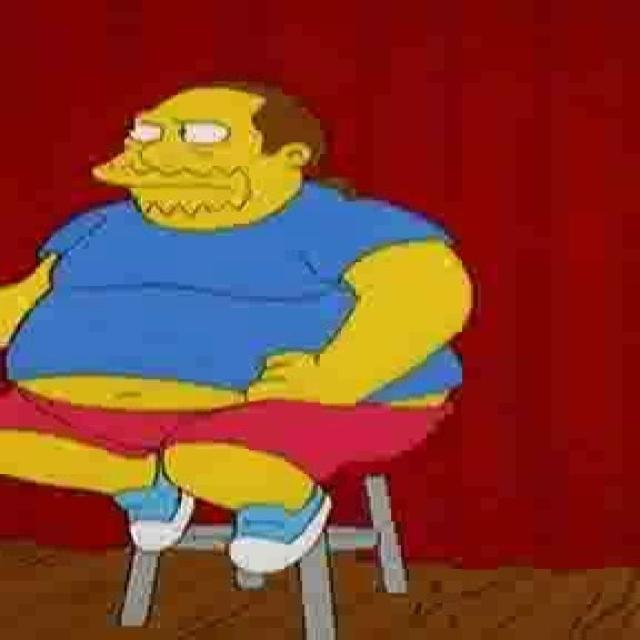Comic Book Guy: (86, 74, 346, 237)
